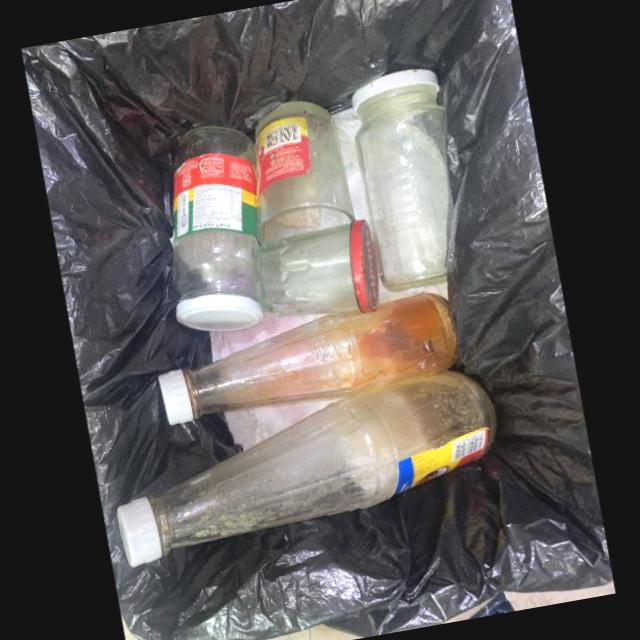chai_thuy_tinh: (116, 368, 497, 566), (157, 291, 457, 424), (351, 67, 453, 291), (169, 125, 264, 330), (254, 98, 354, 247), (255, 219, 379, 316)
